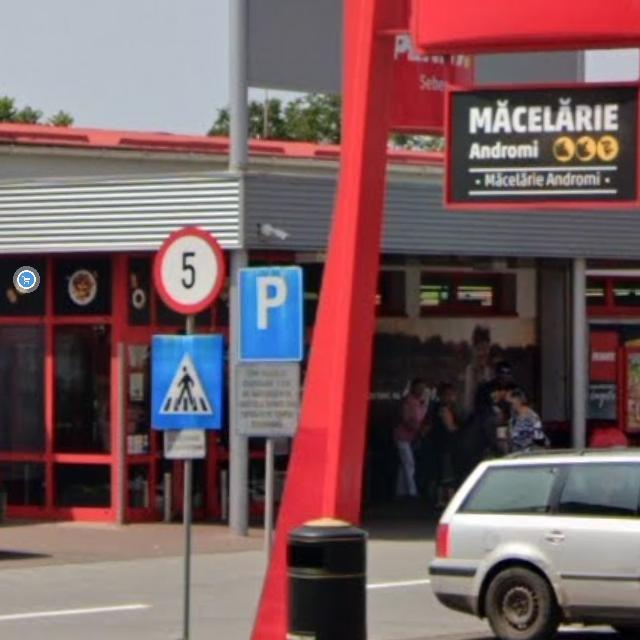info_crosswalk: (150, 333, 225, 431)
